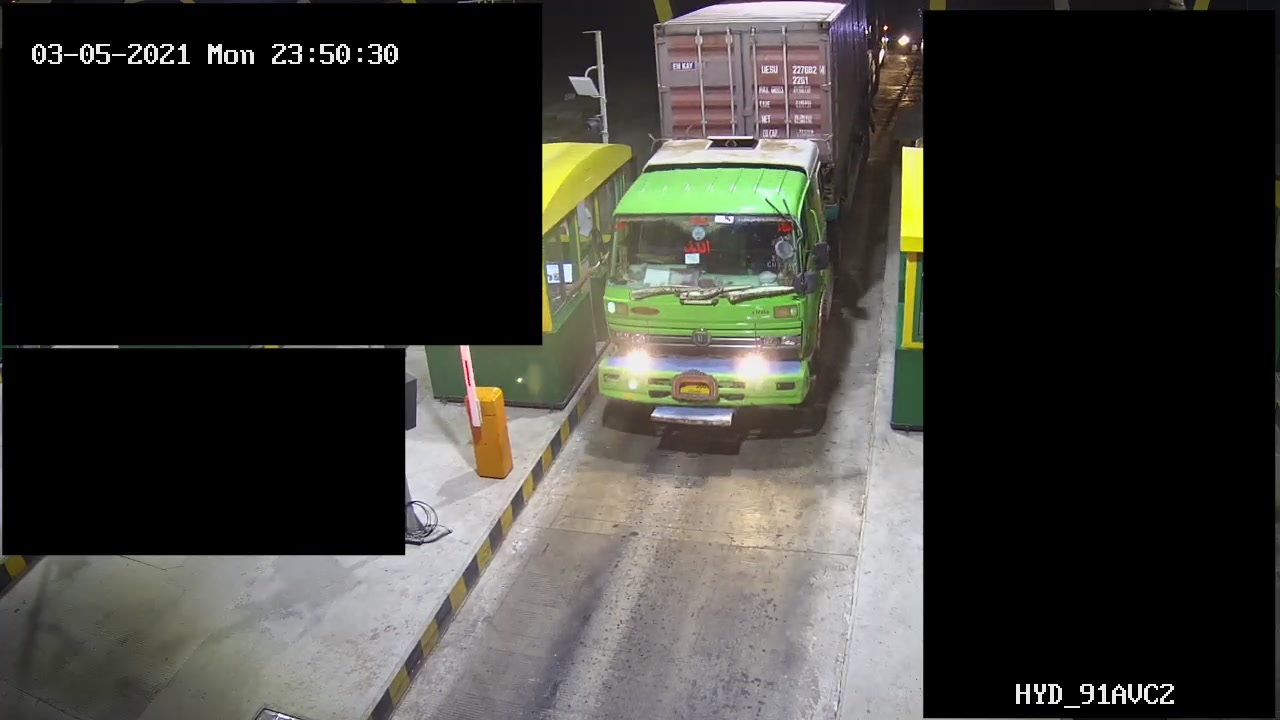F6: (571, 1, 878, 451)
